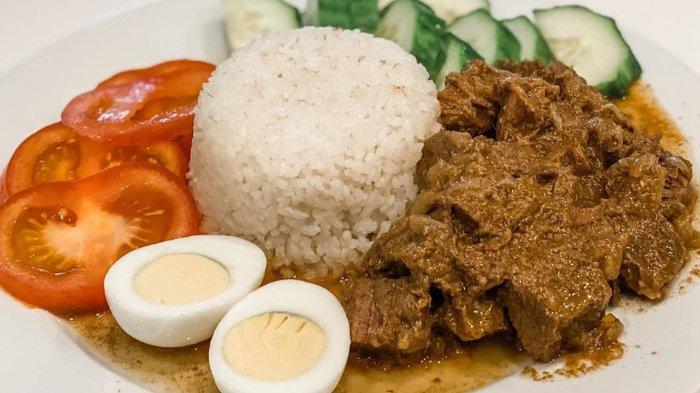rendang: (2, 12, 691, 374)
